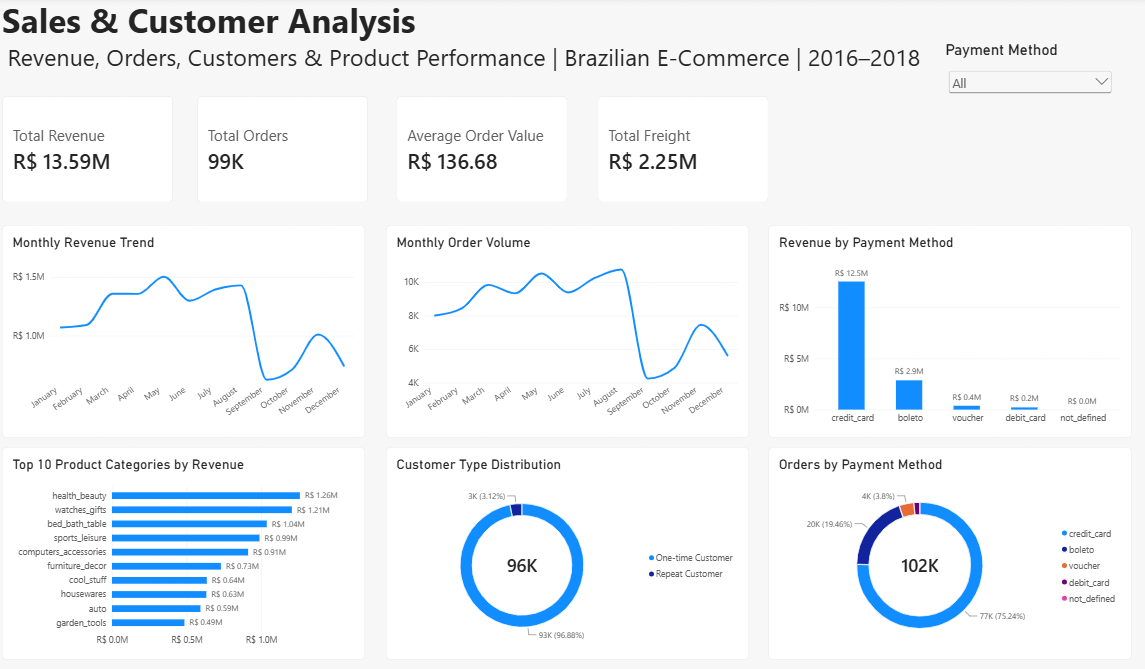

The page's visual inventory and layout, read from the dashboard file:
{"tool":"powerbi","page":{"name":"Sales & Customer Analysis","canvas":[1920,1080],"ordinal":1},"visuals":[{"type":"textbox","box":[10,0,1475,140],"z":0},{"type":"cardVisual","fields":{"Data":["Sum(public vw_overall_kpis.total_revenue)"]},"box":[10,157.5,273,170],"z":1000},{"type":"cardVisual","fields":{"Data":["Sum(public vw_overall_kpis.total_orders)"]},"box":[321.1,158.2,273,170],"z":2000},{"type":"cardVisual","fields":{"Data":["Sum(public vw_overall_kpis.average_order_value)"]},"box":[639.9,158.2,273,170],"z":3000},{"type":"cardVisual","fields":{"Data":["Sum(public vw_overall_kpis.total_freight)"]},"box":[961,158.2,273,170],"z":4000},{"type":"lineChart","title":"Monthly Revenue Trend","fields":{"Y":["Sum(public vw_monthly_sales.revenue)"],"Category":["public vw_monthly_sales.month.Variation.Date Hierarchy.Month"]},"box":[9.6,364.3,580,340.3],"z":5000},{"type":"lineChart","title":"Monthly Order Volume","fields":{"Y":["Sum(public vw_monthly_sales.orders)"],"Category":["public vw_monthly_sales.month.Variation.Date Hierarchy.Month"]},"box":[623.1,364.3,580,340.3],"z":6000},{"type":"clusteredBarChart","title":"Top 10 Product Categories by Revenue","fields":{"Category":["public vw_category_performance.category"],"Y":["Sum(public vw_category_performance.revenue)"]},"box":[10,720,580,340],"z":7000},{"type":"donutChart","title":"Customer Type Distribution","fields":{"Category":["public vw_customer_performance.customer_type"],"Y":["Sum(public vw_customer_performance.customers)"]},"box":[623.1,719,580,340],"z":8000},{"type":"clusteredColumnChart","title":"Revenue by Payment Method","fields":{"Y":["Sum(public vw_payment_performance.payment_value)"],"Category":["public vw_payment_performance.payment_type"]},"box":[1234.2,364.3,580,340.3],"z":9000},{"type":"donutChart","title":"Orders by Payment Method","fields":{"Y":["Sum(public vw_payment_performance.orders)"],"Category":["public vw_payment_performance.payment_type"]},"box":[1234.2,719,580,340],"z":10000},{"type":"slicer","title":"Payment Method","fields":{"Values":["public vw_payment_performance.payment_type"]},"box":[1517.5,70,270,125],"z":11000}]}

Visuals, with their boxes on the page's 1920x1080 design canvas (x1, y1, x2, y2). These are canvas units, not pixel positions in the 1145x669 screenshot, which may show the page scaled, cropped or inside an application window:
textbox: (x1=10, y1=0, x2=1485, y2=140)
cardVisual - Sum(public vw_overall_kpis.total_revenue): (x1=10, y1=158, x2=283, y2=328)
cardVisual - Sum(public vw_overall_kpis.total_orders): (x1=321, y1=158, x2=594, y2=328)
cardVisual - Sum(public vw_overall_kpis.average_order_value): (x1=640, y1=158, x2=913, y2=328)
cardVisual - Sum(public vw_overall_kpis.total_freight): (x1=961, y1=158, x2=1234, y2=328)
"Monthly Revenue Trend" lineChart: (x1=10, y1=364, x2=590, y2=705)
"Monthly Order Volume" lineChart: (x1=623, y1=364, x2=1203, y2=705)
"Top 10 Product Categories by Revenue" clusteredBarChart: (x1=10, y1=720, x2=590, y2=1060)
"Customer Type Distribution" donutChart: (x1=623, y1=719, x2=1203, y2=1059)
"Revenue by Payment Method" clusteredColumnChart: (x1=1234, y1=364, x2=1814, y2=705)
"Orders by Payment Method" donutChart: (x1=1234, y1=719, x2=1814, y2=1059)
"Payment Method" slicer: (x1=1518, y1=70, x2=1788, y2=195)
